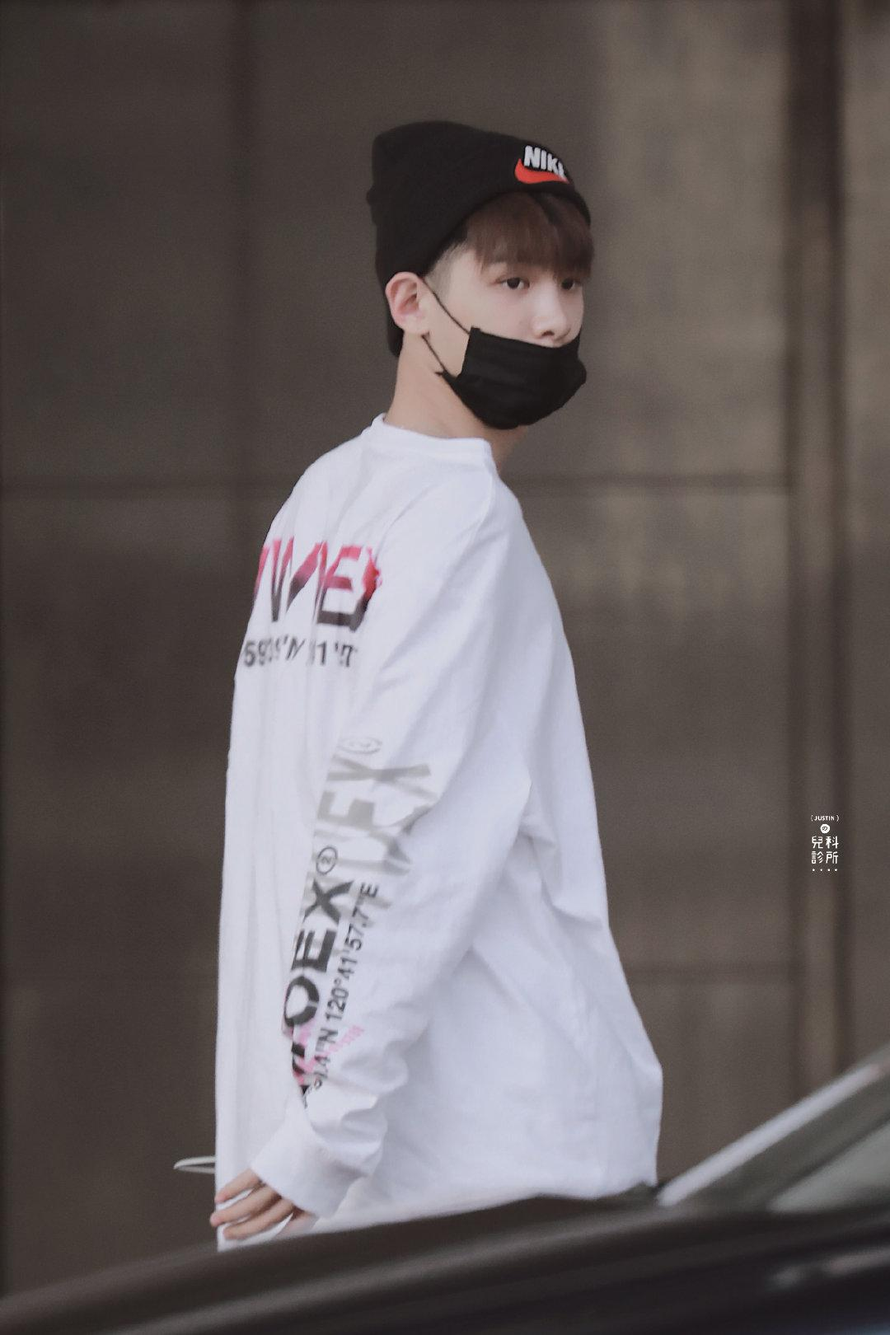WRONG: (443, 224, 584, 429)
